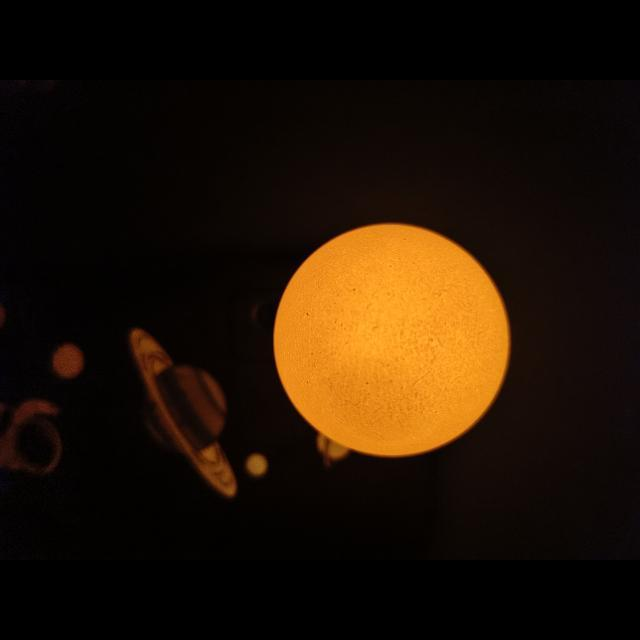AA - Premium: (274, 224, 510, 456)
